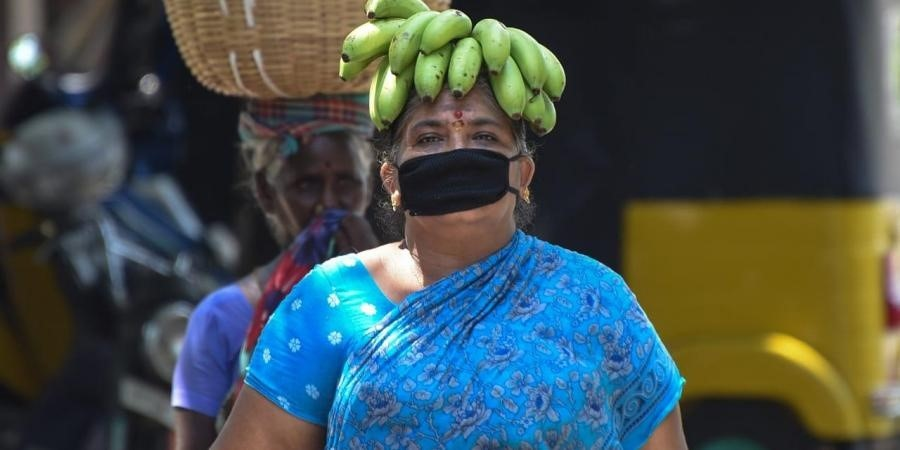face_with_mask: (390, 78, 531, 245)
